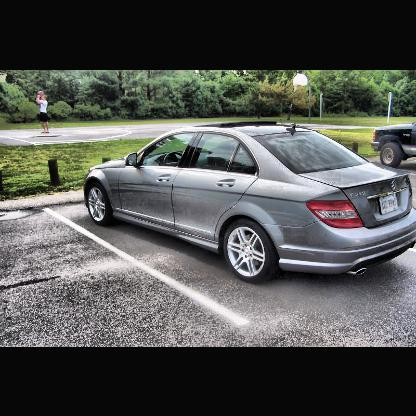Mercedes-Benz C-Class Sedan 2012: (85, 124, 416, 285)
